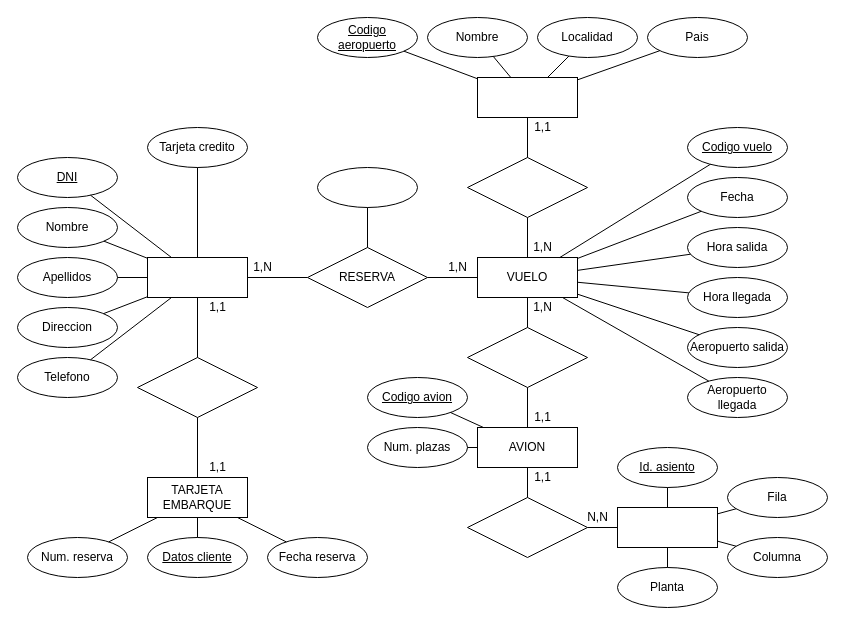
This 845x625 diagram has some shape labels left out. The centre of each missing label's shape, as x and y in pixels:
"AEROPUERTO" belongs at point (527, 97).
"ASIENTO" belongs at point (667, 527).
"CLIENTE" belongs at point (197, 277).
"DIRIGE" belongs at point (527, 187).
"Num. asiento" belongs at point (367, 187).
"POSEE" belongs at point (197, 387).
"REALIZADO" belongs at point (527, 357).
"TIENE" belongs at point (527, 527).
